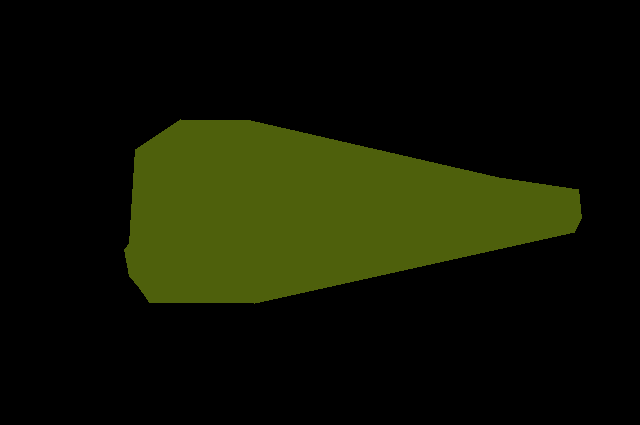Train: (124, 119, 582, 304)
